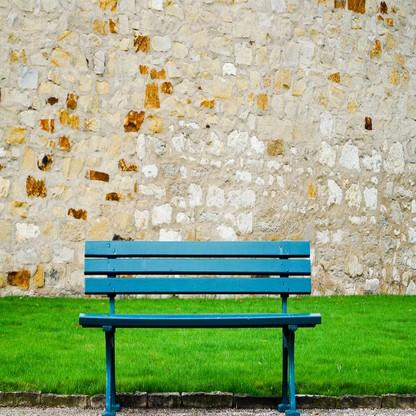obstacle: (64, 219, 338, 396)
